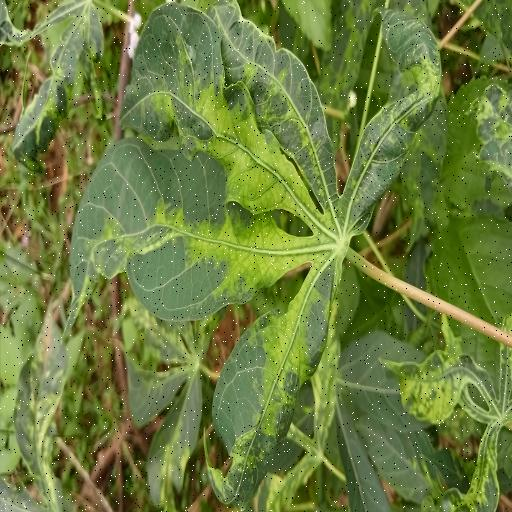Cassava_Mosaic: (64, 0, 444, 512)
